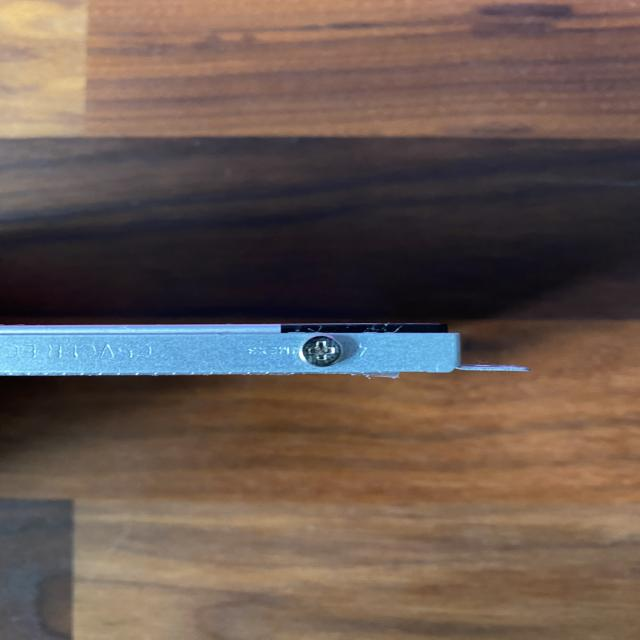PhillipsScrewHead: (299, 335, 344, 368)
